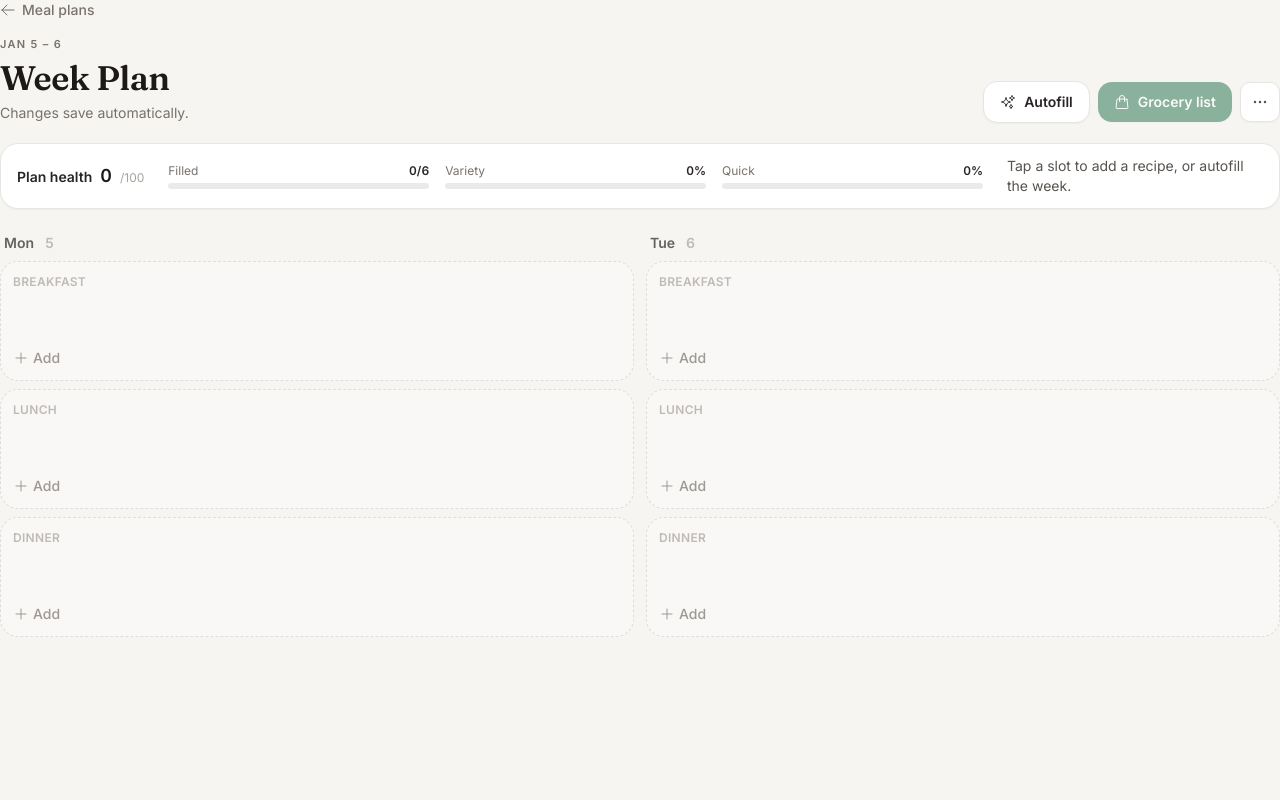
MealPlanDetailPage › autosaving slots › adds a recipe to an empty slot through the picker
Click the button with aria-label "Add dinner on tuesday".
click(683, 538)  # box [646,517,1279,637]
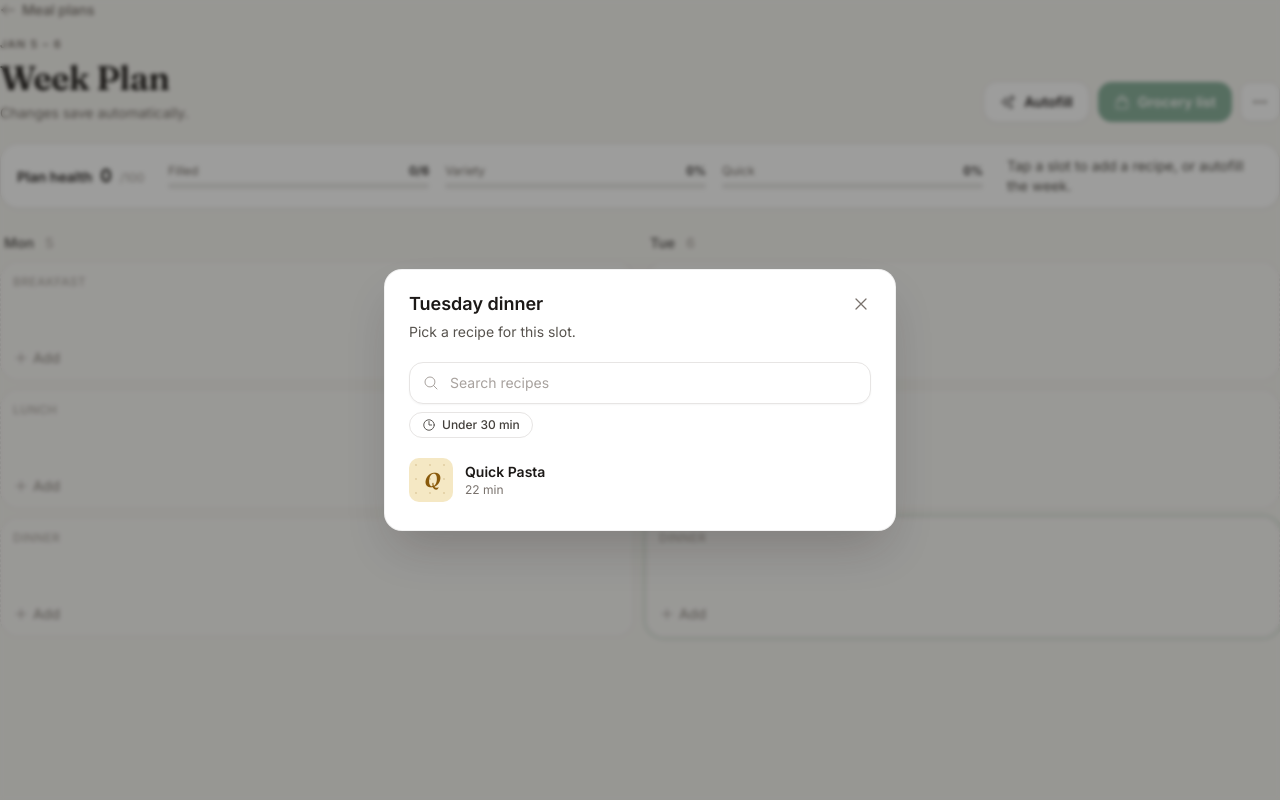
Click the button "Q Quick Pasta 22 min".
click(431, 480)  # box [401,450,879,510]
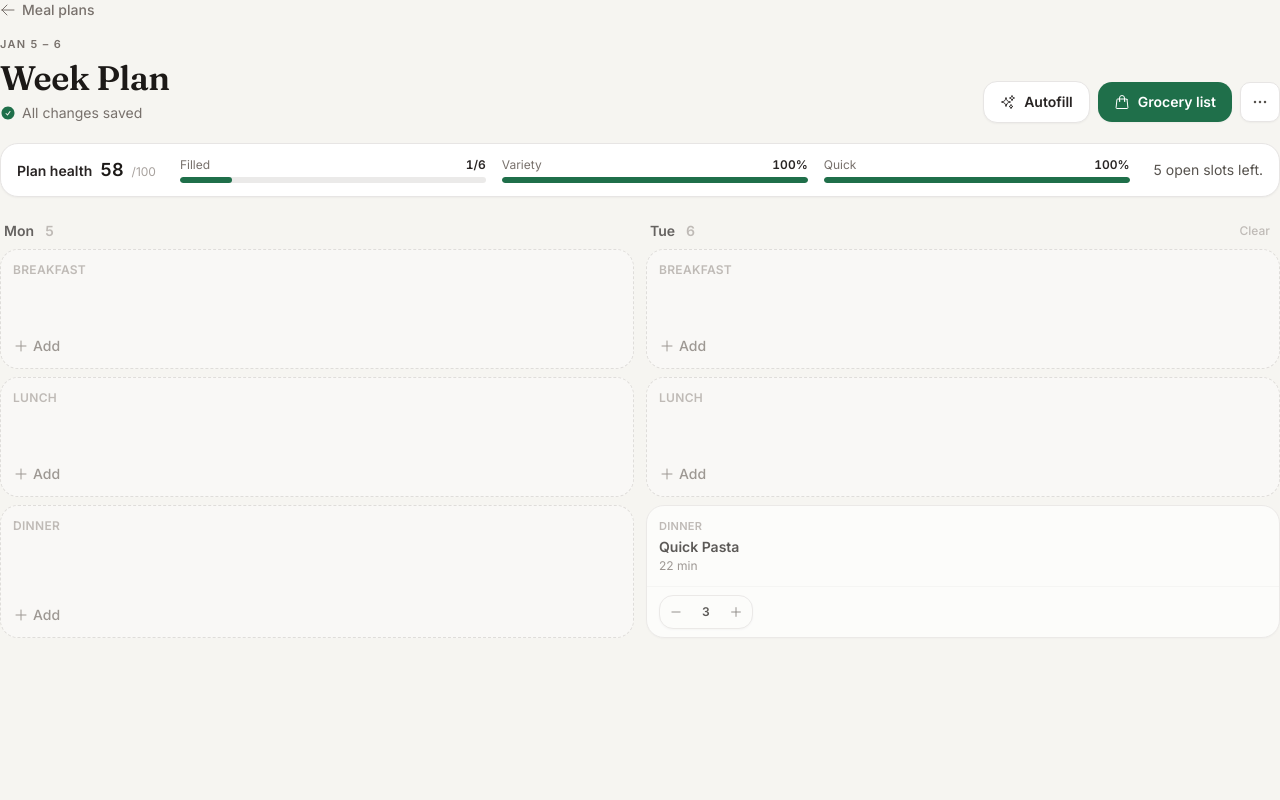
Result: the button with aria-label "Change dinner on tuesday: Quick Pasta" is shown at [647,506,1279,586]
Result: the text "All changes saved" is shown at [22,103,142,123]
